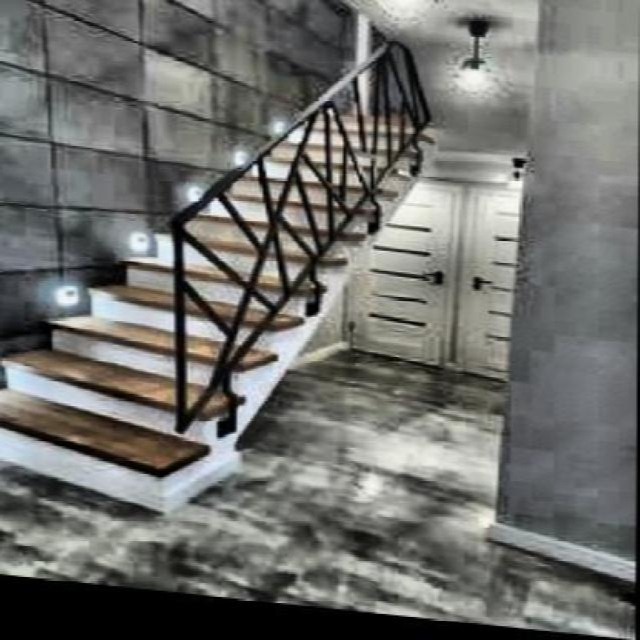stair: (2, 89, 449, 538)
